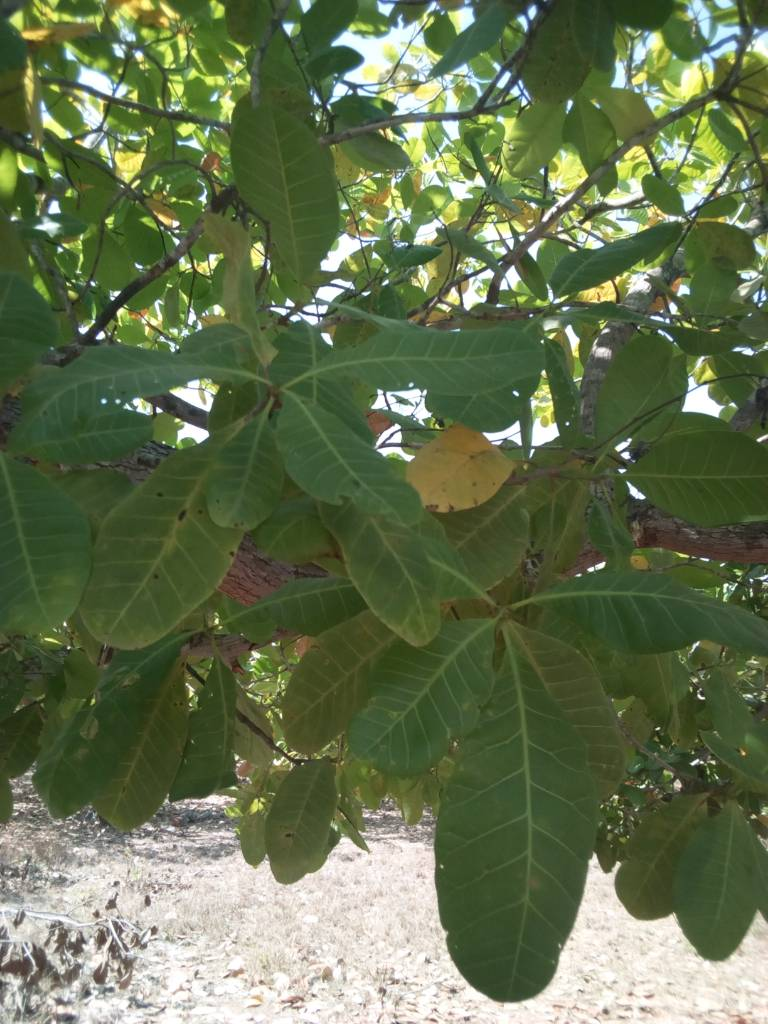Anthracnose: (79, 424, 249, 642), (416, 425, 510, 511)
